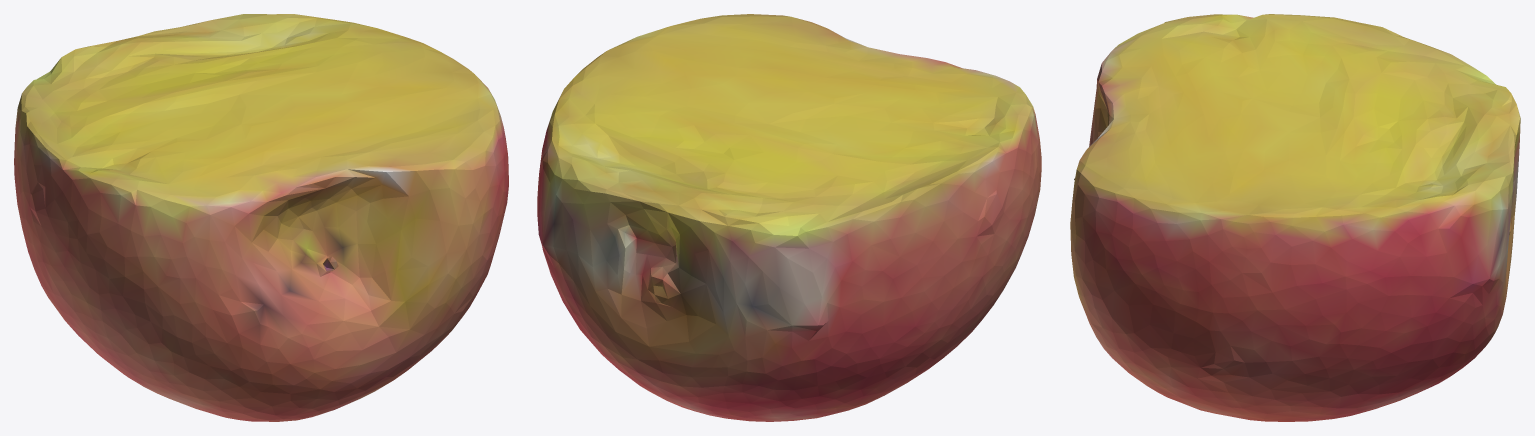
Rendered from scan.obj.
3 renders of one model, left to right at view 1: azimuth 30°, elevation 25°; view 2: azimuth 150°, elevation 25°; view 3: azimuth 270°, elevation 25°, orthographic.
Parts seen in each view (by area): view 1: scan.ply; view 2: scan.ply; view 3: scan.ply.
Boxes of the visible parts, x1=… form: scan.ply: x1=14, y1=14, x2=508, y2=421; scan.ply: x1=537, y1=14, x2=1041, y2=421; scan.ply: x1=1070, y1=14, x2=1520, y2=421.
Bounding box in the file's own units: 0.0806 × 0.0532 × 0.0744.
